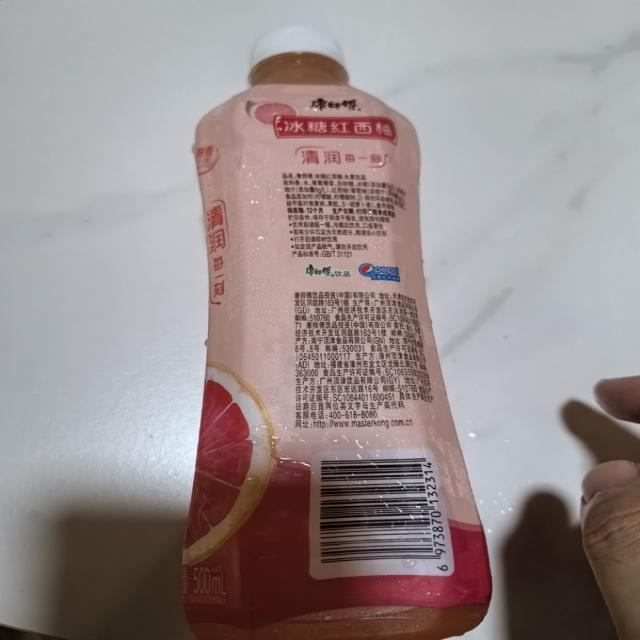bottle: (176, 21, 497, 640)
